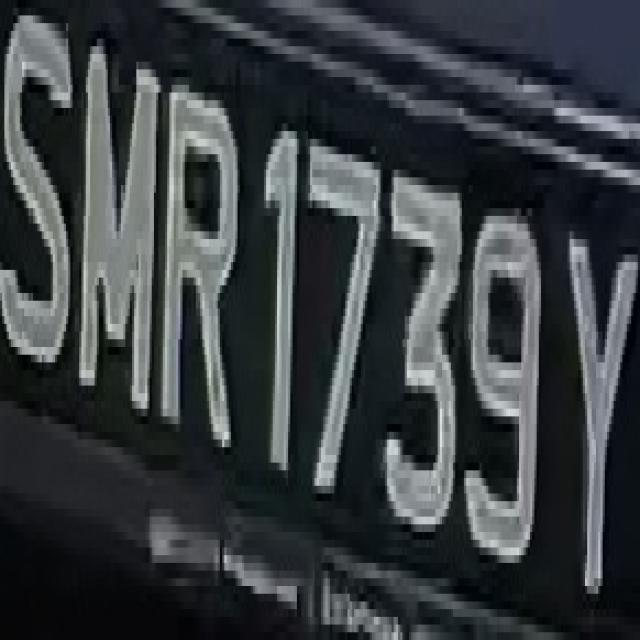1: (255, 100, 299, 501)
3: (385, 139, 468, 540)
7: (299, 116, 383, 509)
9: (468, 177, 546, 594)
M: (77, 23, 161, 432)
R: (158, 46, 238, 463)
S: (2, 8, 75, 386)
Y: (558, 193, 640, 594)
